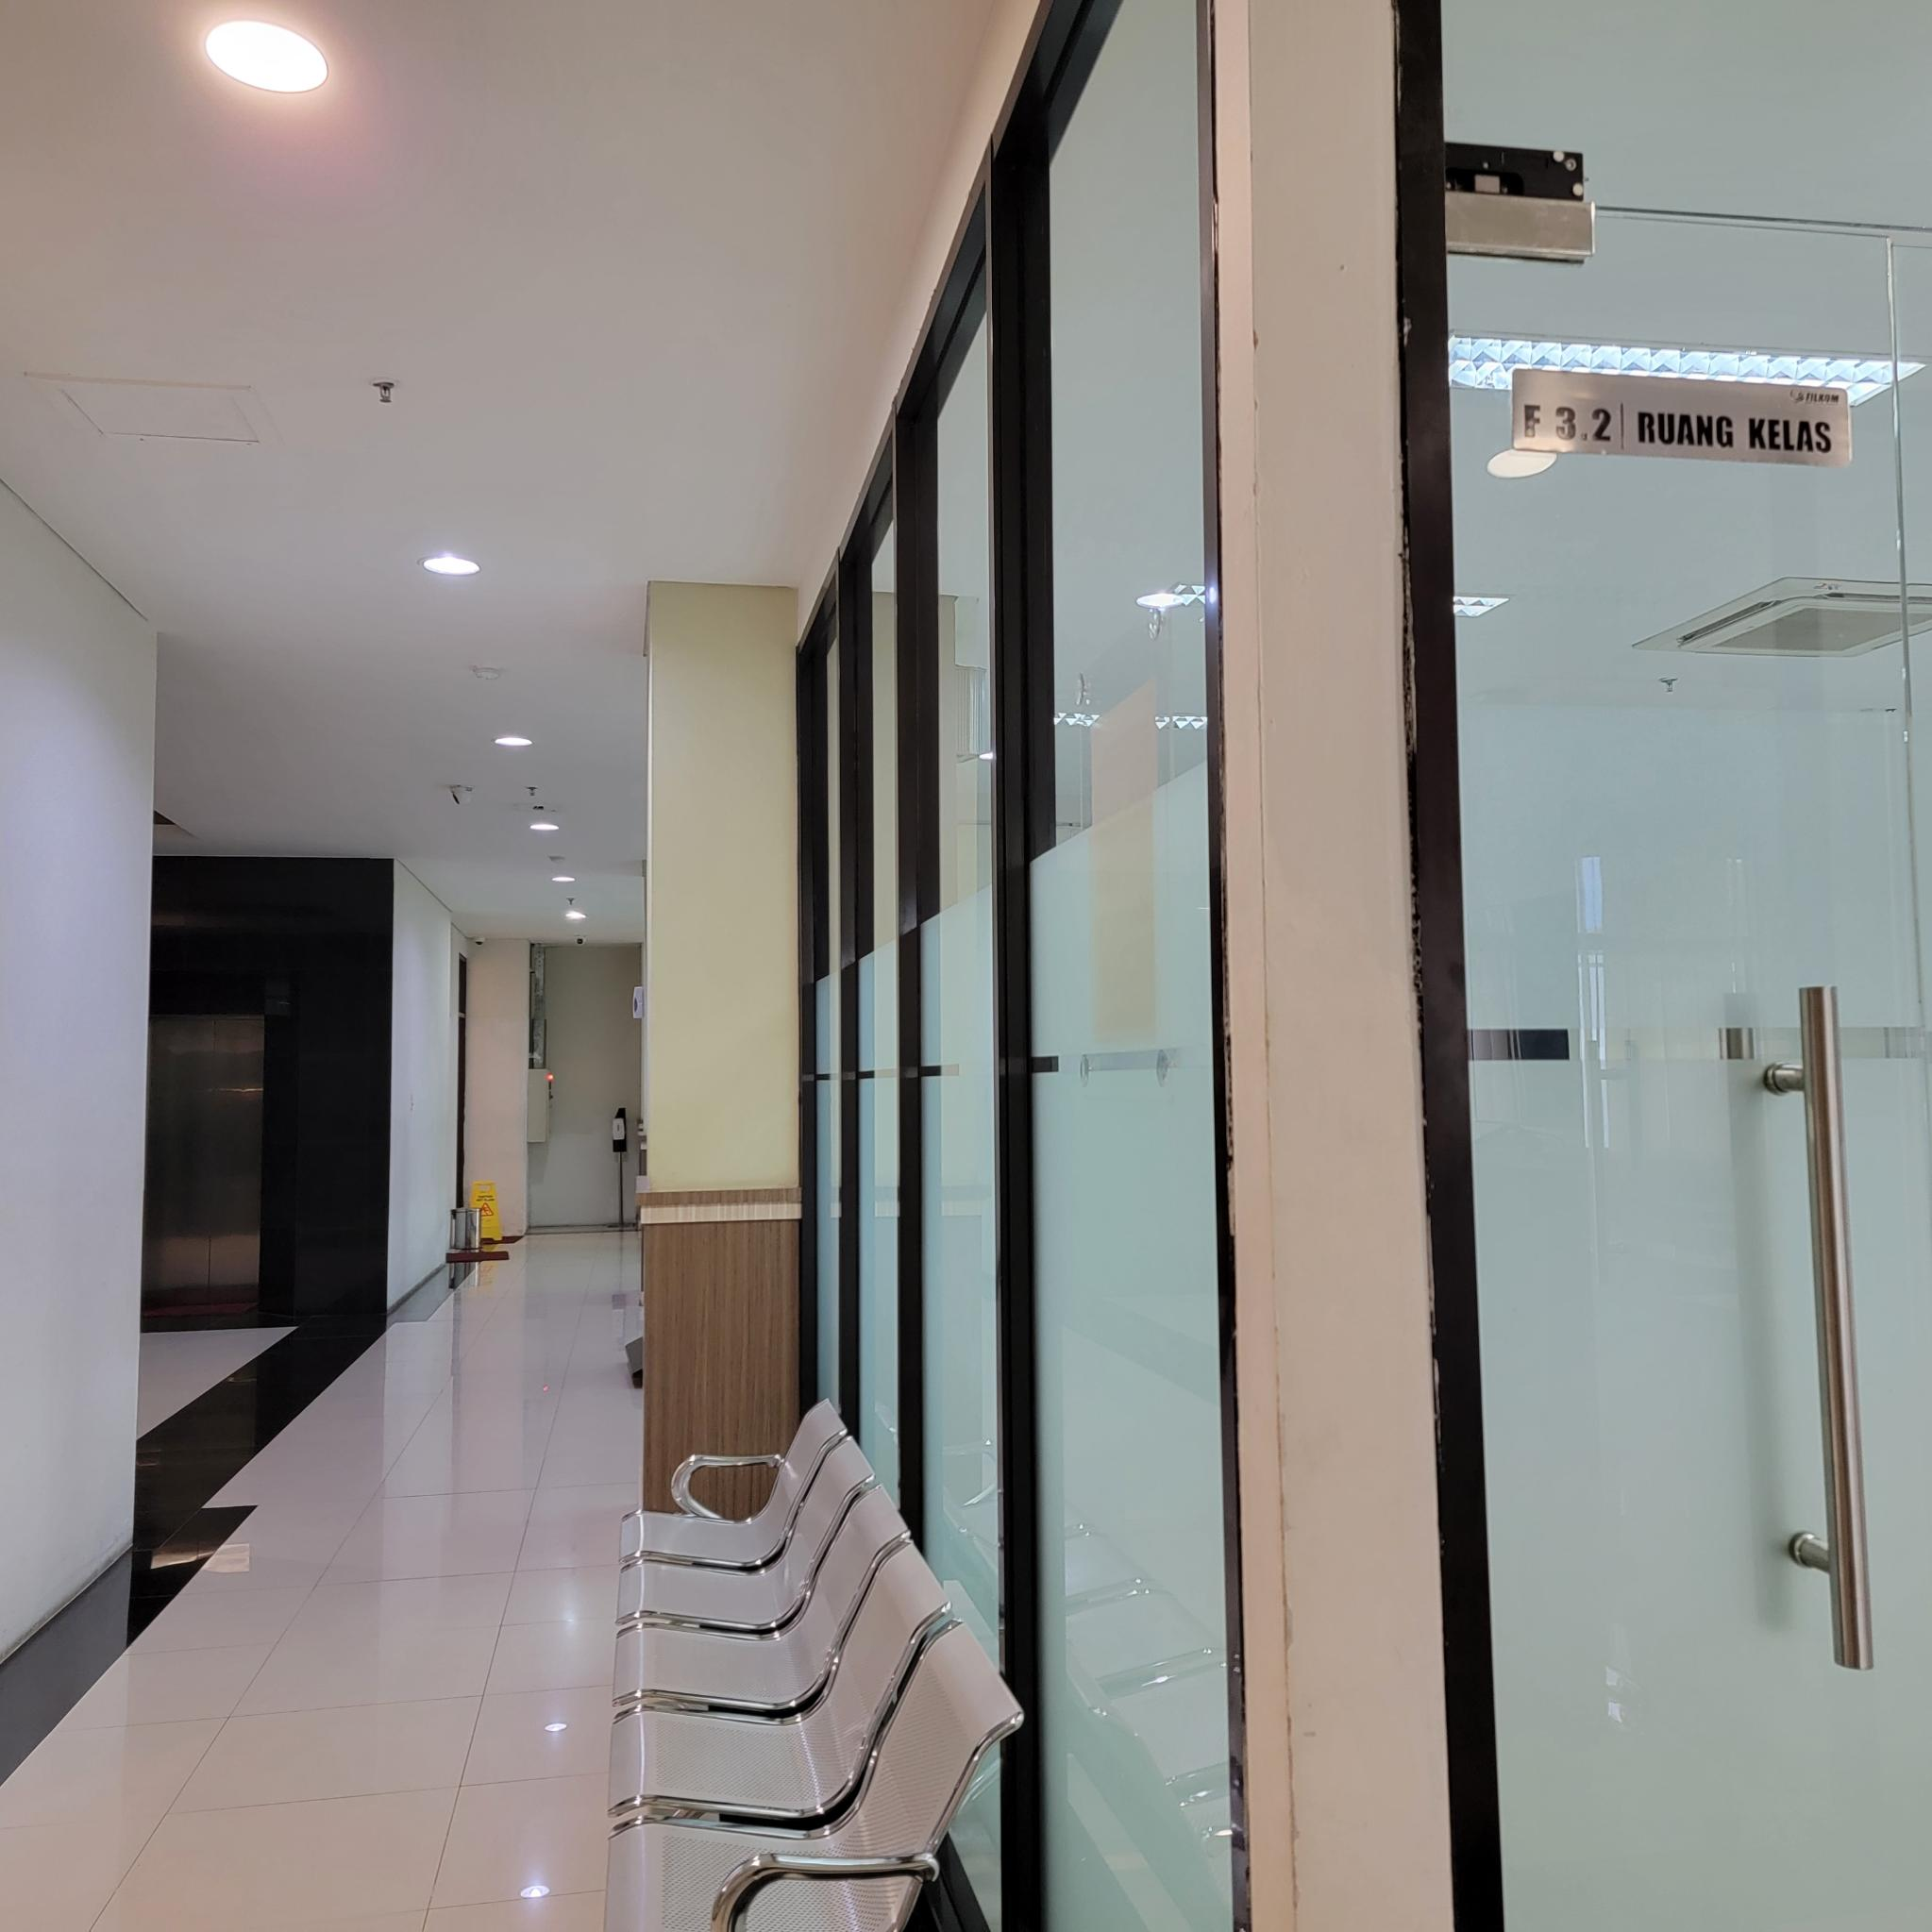plate: (1511, 368, 1852, 471)
